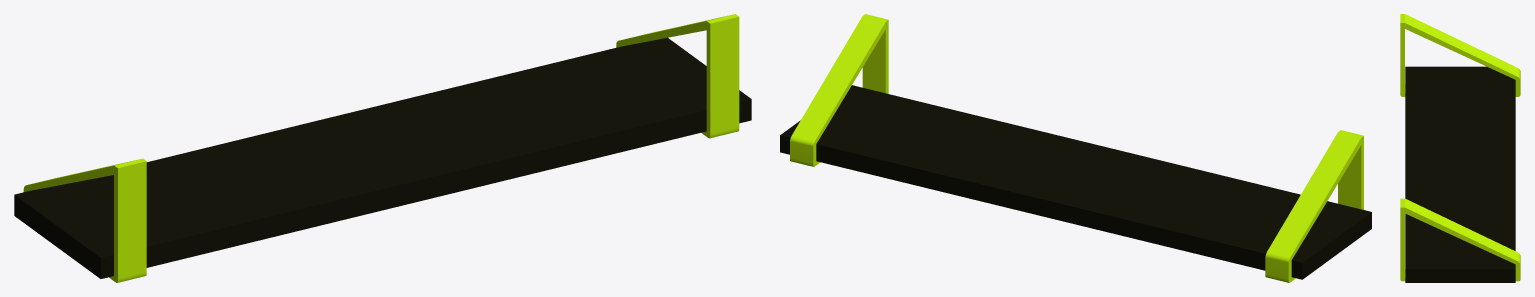
The model's file is SHELVES PBR .fbx.
3 views of the same model, side by side, from view 1: azimuth 30°, elevation 25°; view 2: azimuth 150°, elevation 25°; view 3: azimuth 270°, elevation 25° (orthographic). The views are drawn at different scales.
Parts seen in each view (by area): view 1: shelves (×2); view 2: shelves (×2); view 3: shelves (×2).
Boxes of the visible parts, bbox=[...] form: shelves (×2): bbox=[14, 14, 751, 282]; shelves (×2): bbox=[780, 14, 1371, 282]; shelves (×2): bbox=[1400, 14, 1520, 282].
Size of the model in its own units: 1.95 by 0.332 by 0.4893.
